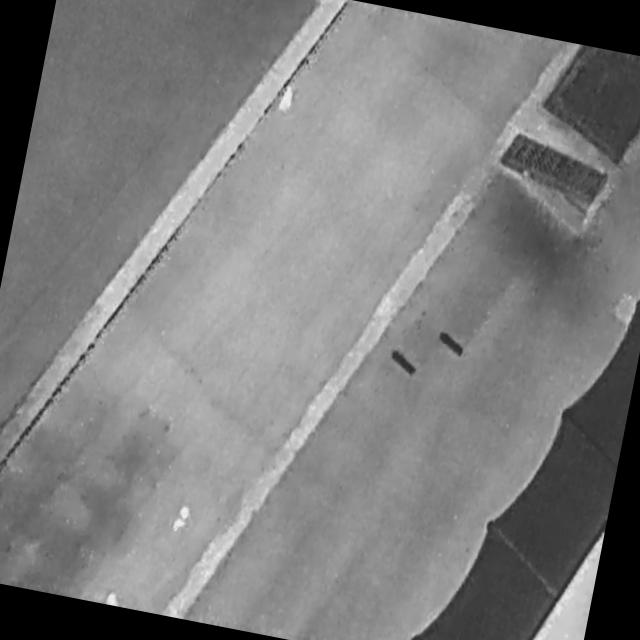person: (171, 500, 195, 537), (278, 82, 298, 117), (105, 589, 122, 606)
